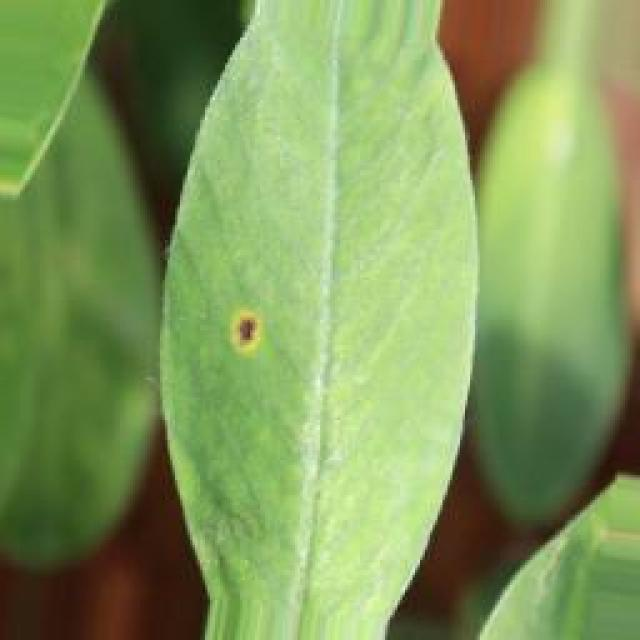Sigatoka: (225, 288, 292, 374)
